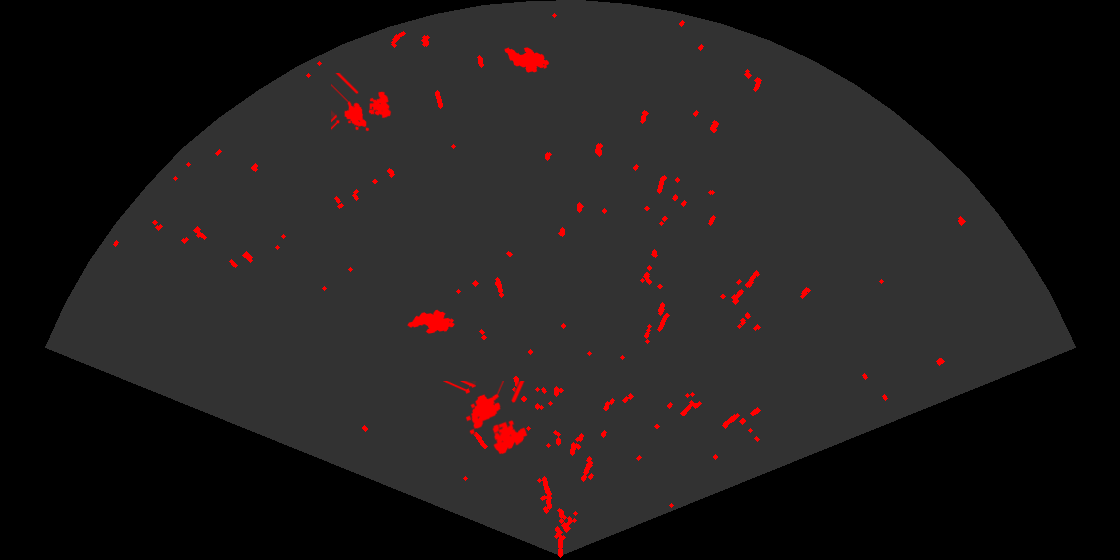AUV: (406, 308, 456, 335), (503, 46, 551, 74)
cage: (443, 381, 529, 456), (331, 73, 393, 133)
